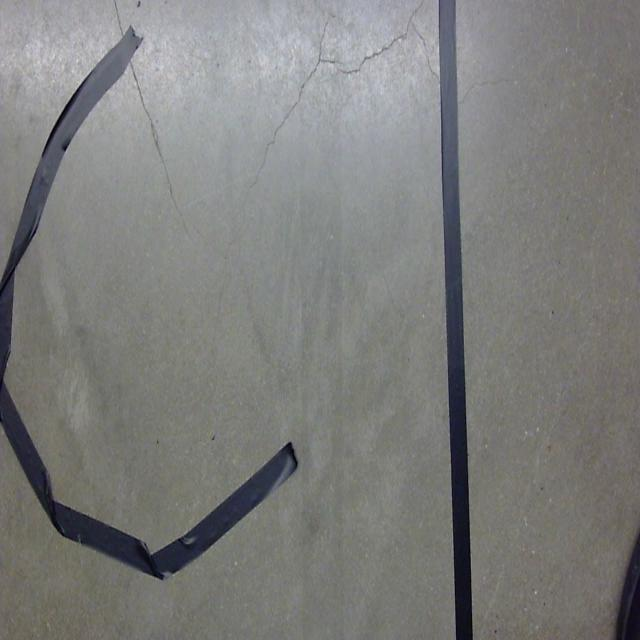tape: (0, 4, 332, 622), (426, 0, 498, 640)
